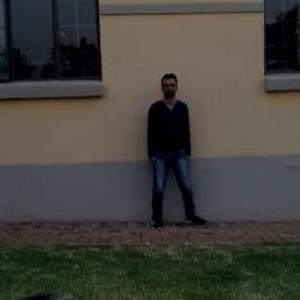follow: (145, 71, 193, 231)
